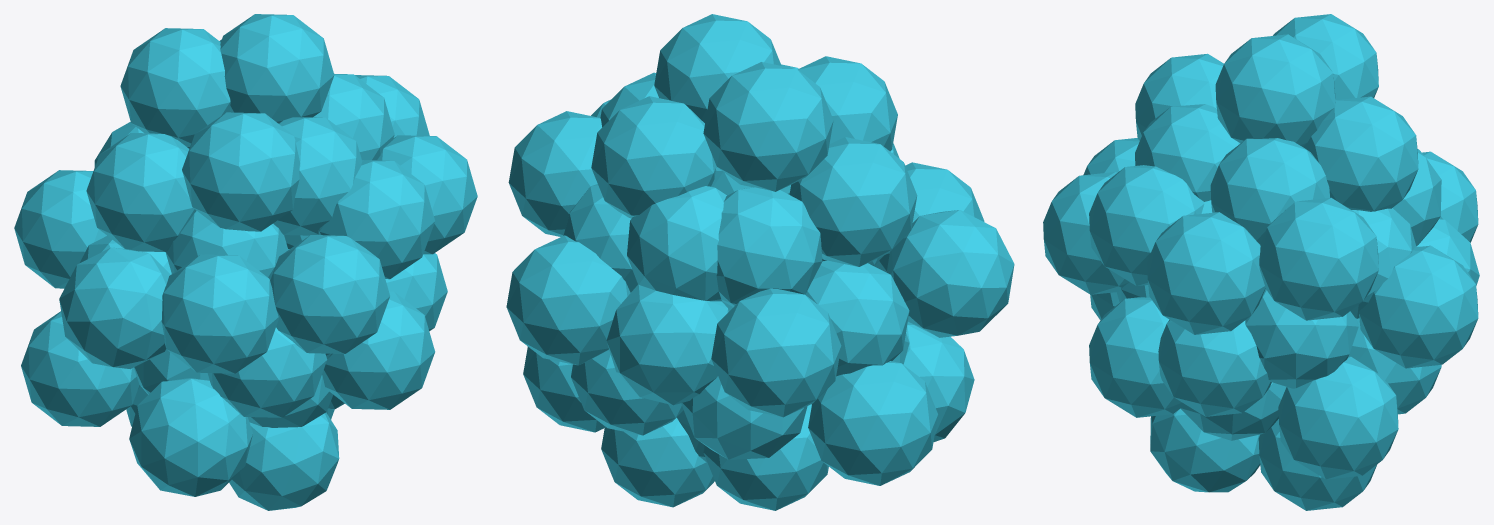
File: BaseElement.fbx
3 views of the same model, side by side, from view 1: azimuth 30°, elevation 25°; view 2: azimuth 150°, elevation 25°; view 3: azimuth 270°, elevation 25° (orthographic). The views are drawn at different scales.
Parts seen in each view (by area): view 1: Icosphere.031; view 2: Icosphere.031; view 3: Icosphere.031.
Boxes of the visible parts, x1,y1,x2,y2 form: Icosphere.031: (14, 14, 477, 510); Icosphere.031: (506, 14, 1014, 510); Icosphere.031: (1043, 14, 1479, 510).
Bounding box in the file's own units: 301 × 320 × 275.
